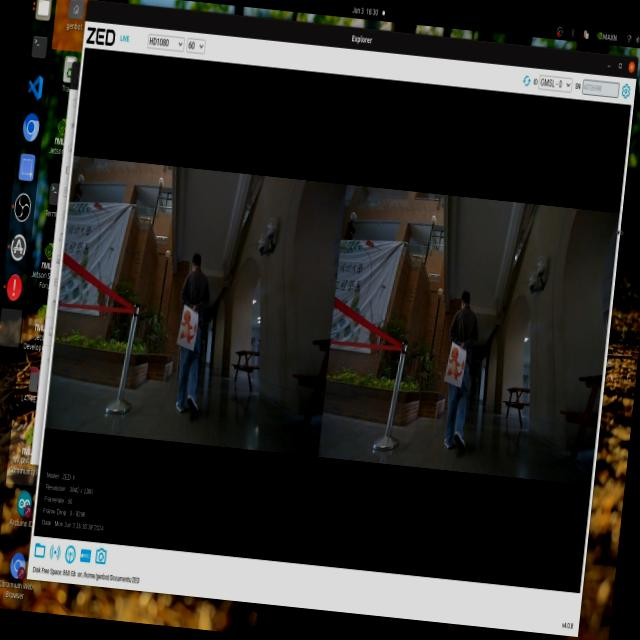red: (445, 338, 468, 386), (179, 307, 199, 344)
